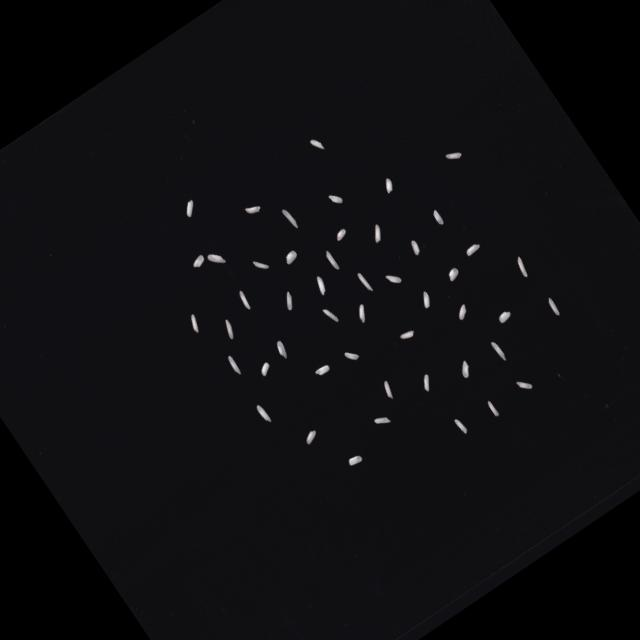Chalky: (206, 249, 227, 270), (512, 256, 531, 279), (180, 199, 200, 220), (490, 340, 508, 363), (281, 208, 299, 230), (254, 404, 272, 426), (312, 276, 330, 297), (280, 291, 298, 312), (272, 340, 290, 361), (220, 319, 238, 340), (356, 272, 373, 294), (323, 250, 340, 272), (225, 355, 242, 377), (235, 290, 252, 312), (456, 360, 474, 380), (353, 304, 371, 324), (416, 291, 434, 310), (368, 224, 386, 243), (379, 380, 396, 400), (185, 314, 202, 334), (515, 376, 533, 394), (384, 270, 402, 288), (342, 348, 360, 366), (372, 412, 390, 430), (251, 256, 269, 274), (545, 297, 561, 317), (322, 306, 338, 326), (444, 148, 462, 165), (454, 304, 471, 322), (418, 374, 434, 393), (407, 239, 423, 257), (308, 136, 324, 154), (244, 202, 262, 218), (256, 362, 274, 378), (380, 178, 396, 195), (327, 191, 343, 208), (302, 430, 319, 446), (190, 254, 207, 270), (453, 418, 468, 436), (282, 250, 298, 266), (464, 243, 481, 258), (496, 310, 513, 325), (346, 453, 363, 468), (430, 210, 444, 227), (445, 268, 461, 282), (399, 328, 415, 342), (314, 364, 330, 378), (486, 400, 498, 418), (333, 228, 348, 242)
